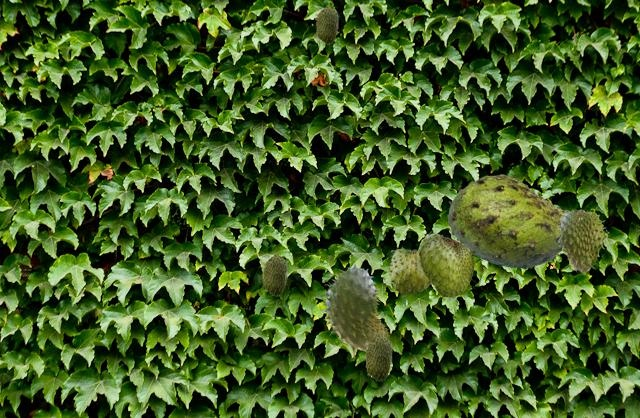guyabano: (447, 174, 567, 268), (321, 263, 388, 357), (419, 232, 473, 296), (556, 209, 608, 273), (388, 246, 431, 294), (364, 332, 392, 380), (262, 252, 287, 295), (315, 4, 338, 43)
